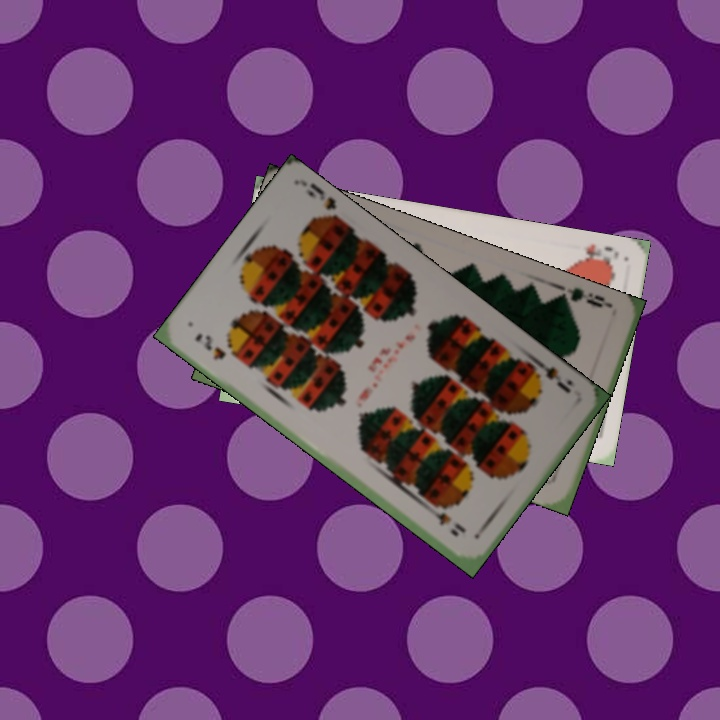G9: (557, 282, 615, 311)
HO: (574, 239, 622, 269)
S9: (527, 354, 574, 396), (190, 329, 229, 363)
